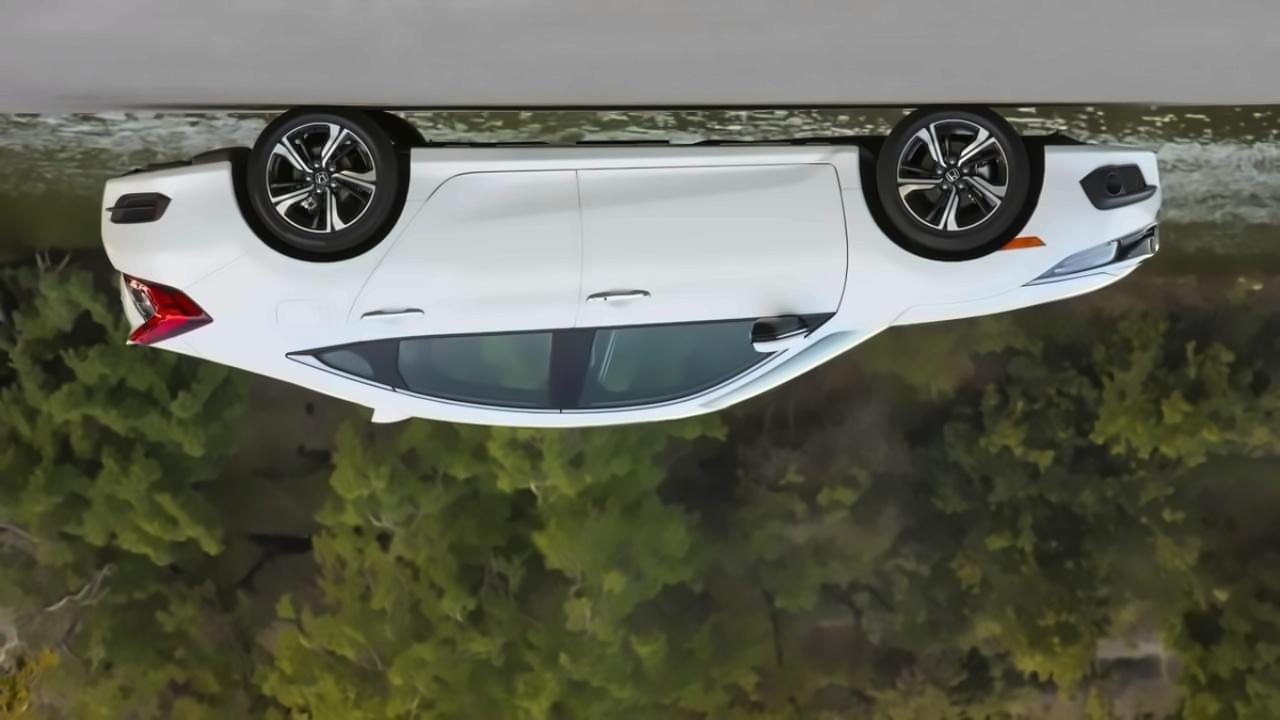Car hood: (889, 270, 1130, 338)
Fender - -F-L-: (844, 150, 1020, 336)
Fender - -R-L-: (186, 140, 419, 362)
Front bumper: (1022, 133, 1169, 267)
Headlight - -L-: (1016, 216, 1178, 295)
Passenger-s door - -F-L-: (576, 164, 848, 424)
Passenger-s door - -R-L-: (342, 164, 577, 425)
Rear bumper: (93, 156, 248, 277)
Rear light - -L-: (104, 259, 225, 356)
Side mirror - -L-: (743, 307, 822, 359)
